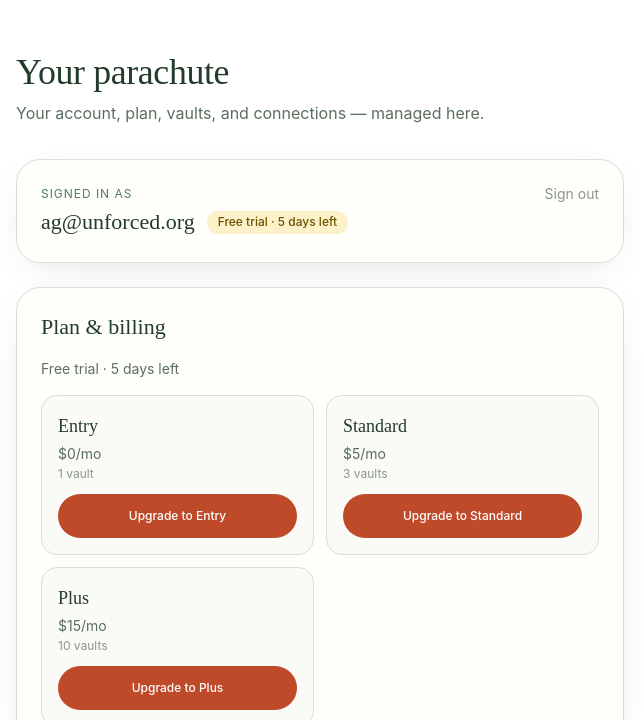
Test: Account — 'Your parachute', the four-card manager home › Billing — Stripe-direct redirects › honest checkout-error copy › checkout 503 unconfigured → the outage line is honest there
Expected: the text "Entry" is shown, 58,412 -> 98,440
Click the button "Upgrade to Plus".
click(178, 688)  # box 58,666 -> 297,710
(page scrolled)
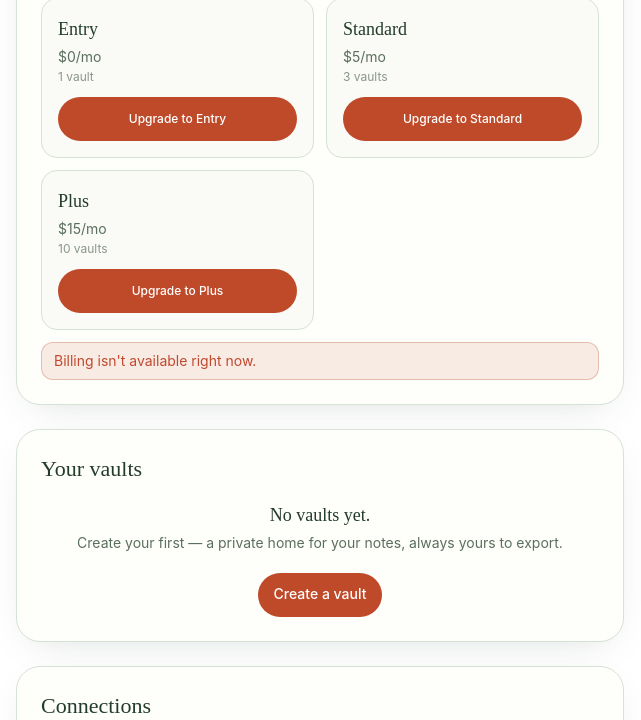
Result: the text "Billing isn't available right now." is shown at 41,342 -> 599,380
